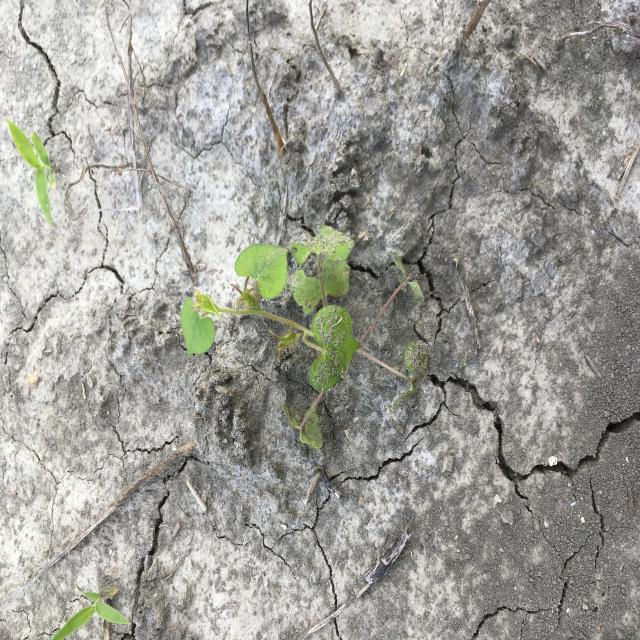MorningGlory: (178, 223, 432, 452)
